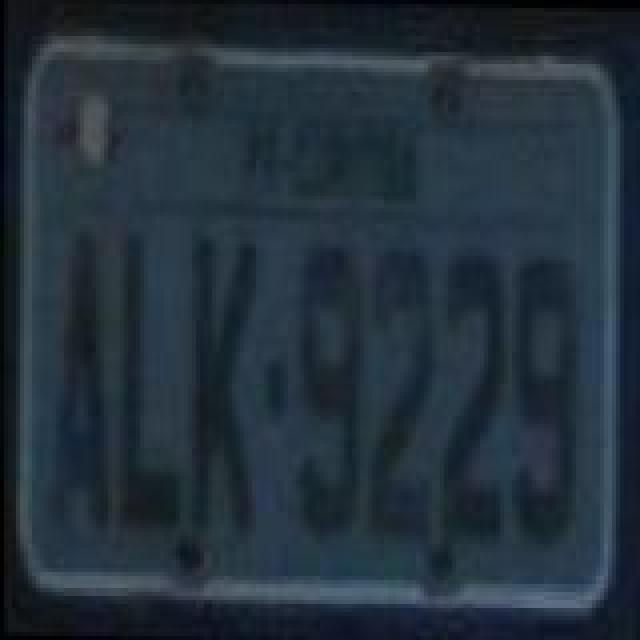2: (362, 246, 438, 546), (434, 246, 510, 546)
9: (292, 240, 364, 540), (508, 250, 580, 550)
A: (46, 230, 114, 538)
K: (182, 238, 258, 546)
L: (114, 226, 182, 534)
